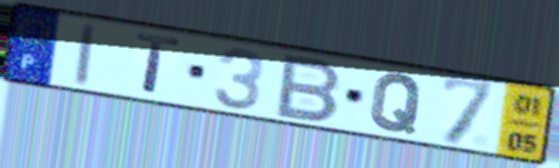3: (212, 46, 266, 110)
7: (439, 73, 500, 149)
B: (271, 51, 345, 125)
I: (71, 20, 100, 89)
Q: (366, 71, 426, 137)
T: (133, 30, 184, 98)
